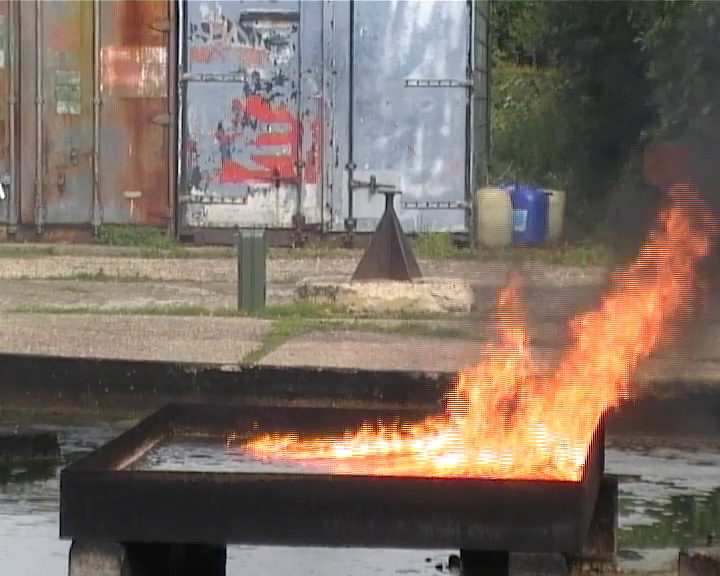fire: (246, 199, 711, 480)
